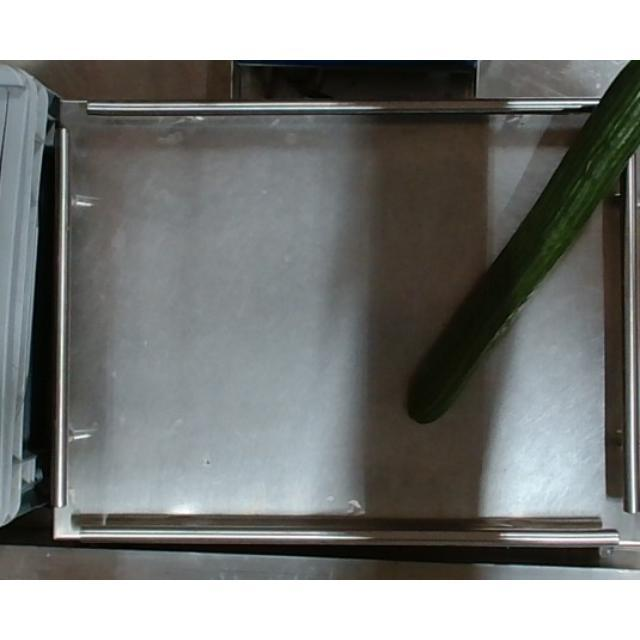cucumber: (402, 60, 640, 428)
